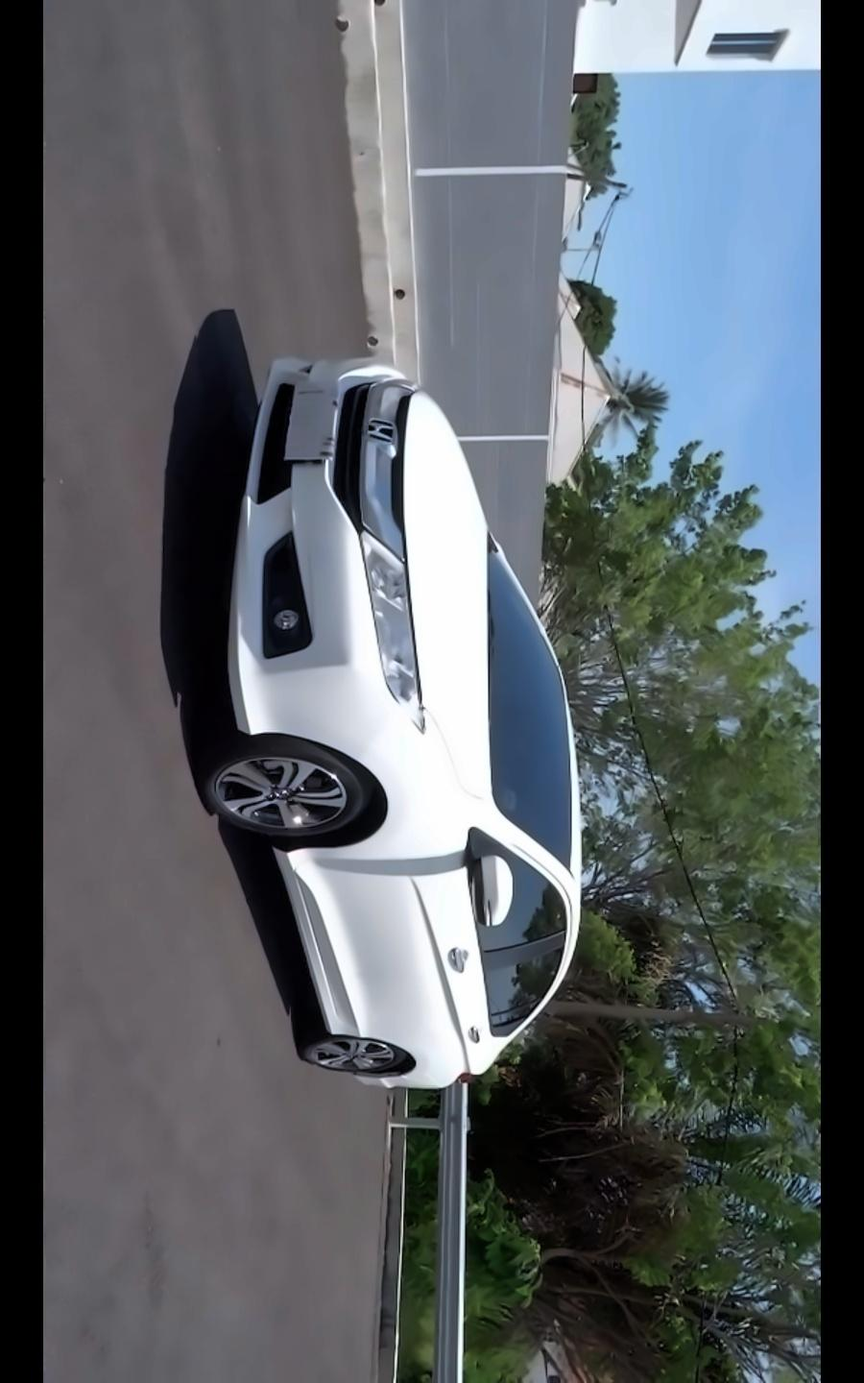Car hood: (400, 381, 502, 769)
Fender - -F-L-: (280, 735, 500, 858)
Fender - -R-L-: (327, 1031, 476, 1080)
Front bumper: (223, 341, 379, 735)
Headlight - -L-: (352, 524, 431, 738)
Headlight - -R-: (372, 368, 427, 401)
Passenger-s door - -F-L-: (290, 857, 578, 972)
Passenger-s door - -R-L-: (317, 968, 571, 1058)
Rear bumper: (347, 1058, 412, 1105)
Rear light - -L-: (450, 1066, 497, 1101)
Side bumper - -L-: (263, 841, 354, 1044)
Side mirror - -L-: (458, 850, 518, 935)
